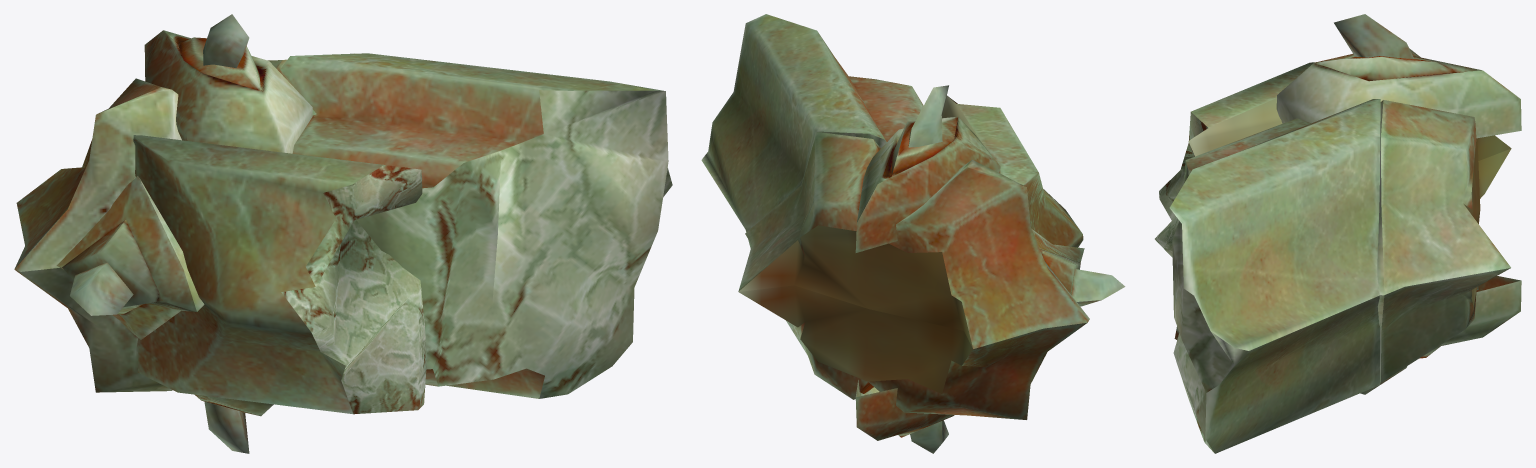
The model's file is Ruins_Collumn_Buttress_Dmg_A.fbx.
The picture shows the model from 3 angles, left to right: view 1: azimuth 30°, elevation 25°; view 2: azimuth 150°, elevation 25°; view 3: azimuth 270°, elevation 25°; orthographic projection. The views are drawn at different scales.
Visible parts, largest first — view 1: Ruins_Collumn_Buttress_Dmg_A; view 2: Ruins_Collumn_Buttress_Dmg_A; view 3: Ruins_Collumn_Buttress_Dmg_A.
Boxes of the visible parts, <box> form: Ruins_Collumn_Buttress_Dmg_A: <box>14,14,672,453</box>; Ruins_Collumn_Buttress_Dmg_A: <box>701,14,1125,453</box>; Ruins_Collumn_Buttress_Dmg_A: <box>1155,14,1521,453</box>.
Bounding box in the file's own units: 846 × 639 × 558.
